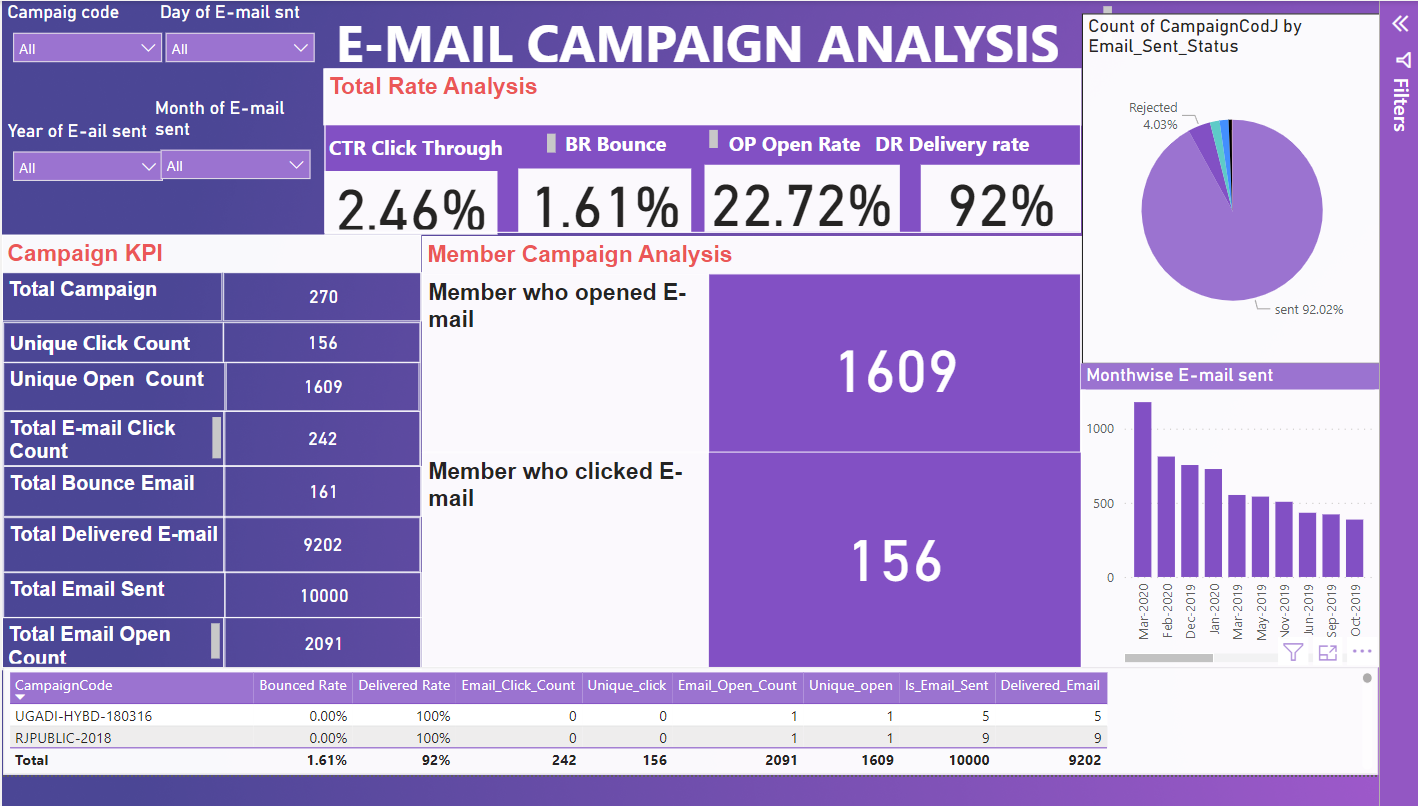

This screenshot's page, from the dashboard's own definition file:
{"tool":"powerbi","page":{"name":"Page 1","canvas":[1280,720],"ordinal":0},"visuals":[{"type":"textbox","box":[263.3,0,773.3,61.7],"z":0},{"type":"slicer","title":"Campaig code","fields":{"Values":["TBL_Communication.CampaignCodJ"]},"box":[0,0,158.6,89.7],"z":1000},{"type":"slicer","title":"Year of E-ail sent","fields":{"Values":["TBL_Communication.Email_SentDate.Variation.Date Hierarchy.Year"]},"box":[0,110.2,159.3,74.6],"z":2000},{"type":"slicer","title":"Month of E-mail sent","fields":{"Values":["TBL_Communication.Email_SentDate.Variation.Date Hierarchy.Month"]},"box":[137.3,89.8,159.3,81.4],"z":3000},{"type":"slicer","title":"Day of E-mail snt","fields":{"Values":["TBL_Communication.Email_SentDate.Variation.Date Hierarchy.Day"]},"box":[141.4,0,158.6,89.7],"z":4000},{"type":"shape","box":[300,62.7,703.4,152.5],"z":5000},{"type":"textbox","box":[298.3,62.7,705.1,52.5],"z":6000},{"type":"textbox","box":[298.3,119,220.7,39.7],"z":7000},{"type":"textbox","box":[518.6,115.3,152.5,37.3],"z":8000},{"type":"textbox","box":[670.7,115.5,182.8,43.1],"z":9000},{"type":"textbox","box":[806.9,115.5,177.6,41.4],"z":10000},{"type":"textbox","box":[0,216.9,389.8,405.1],"z":11000},{"type":"textbox","box":[0,216.9,389.8,35.6],"z":12000},{"type":"textbox","box":[0,252.5,205.1,45.8],"z":13000},{"type":"textbox","box":[1.7,298.3,205.1,37.3],"z":14000},{"type":"textbox","box":[1.7,335.6,206.8,45.8],"z":15000},{"type":"textbox","box":[1.7,381.4,206.8,50.8],"z":16000},{"type":"textbox","box":[1.7,432.2,206.8,47.5],"z":17000},{"type":"textbox","box":[1.7,479.7,206.8,50.8],"z":18000},{"type":"card","fields":{"Values":["Count(TBL_Communication.CampaignCodJ)"]},"box":[205.1,252.5,184.7,45.8],"z":19000},{"type":"textbox","box":[1.7,530.5,206.8,42.4],"z":20000},{"type":"card","fields":{"Values":["Sum(TBL_Communication.Unique_click)"]},"box":[205.1,298.3,183.1,37.3],"z":21000},{"type":"card","fields":{"Values":["Sum(TBL_Communication.Unique_open)"]},"box":[208.5,335.6,179.7,45.8],"z":22000},{"type":"card","fields":{"Values":["Sum(TBL_Communication.Email_Click_Count)"]},"box":[205.1,381.4,183.1,50.8],"z":23000},{"type":"card","fields":{"Values":["Sum(TBL_Communication.Bounced_Email)"]},"box":[205.1,432.2,184.7,47.5],"z":24000},{"type":"card","fields":{"Values":["Sum(TBL_Communication.Delivered_Email)"]},"box":[205.1,479.7,183.1,50.8],"z":25000},{"type":"card","fields":{"Values":["Sum(TBL_Communication.Is_Email_Sent)"]},"box":[206.8,530.5,183.1,42.4],"z":26000},{"type":"textbox","box":[0,572.9,206.8,47.5],"z":27000},{"type":"card","fields":{"Values":["Sum(TBL_Communication.Email_Open_Count)"]},"box":[206.8,572.9,183.1,49.2],"z":28000},{"type":"card","fields":{"Values":["TBL_Communication.CTR"]},"box":[300,157.6,161,59.3],"z":29000},{"type":"card","fields":{"Values":["TBL_Communication.BR"]},"box":[479.7,155.9,161,59.3],"z":30000},{"type":"card","fields":{"Values":["TBL_Communication.OR"]},"box":[652.5,152.5,181.4,62.7],"z":31000},{"type":"card","fields":{"Values":["TBL_Communication.DR"]},"box":[854.2,152.5,149.2,62.7],"z":32000},{"type":"shape","box":[390,218.3,613.3,401.7],"z":33000},{"type":"textbox","box":[390,218.3,613.3,35],"z":34000},{"type":"textbox","box":[390,253.3,266.7,166.7],"z":35000},{"type":"textbox","box":[390,420,266.7,200],"z":36000},{"type":"card","fields":{"Values":["CountNonNull(TBL_Communication.Member Open)"]},"box":[656.7,253.3,346.7,166.7],"z":37000},{"type":"card","fields":{"Values":["CountNonNull(TBL_Communication.Member Clicked)"]},"box":[656.7,406.7,346.7,213.3],"z":38000},{"type":"pieChart","fields":{"Category":["TBL_Communication.Email_Sent_Status"],"Y":["CountNonNull(TBL_Communication.CampaignCodJ)"]},"box":[1003.4,12.1,277.6,325.9],"z":39000},{"type":"clusteredColumnChart","title":"Monthwise E-mail sent","fields":{"Category":["TBL_Communication.Month_year"],"Y":["Sum(TBL_Communication.Is_Email_Sent)"]},"box":[1003.2,337.1,277.4,282.3],"z":40000},{"type":"tableEx","fields":{"Values":["TBL_Communication.CampaignCodJ","TBL_Communication.BR","TBL_Communication.DR","Sum(TBL_Communication.Email_Click_Count)","Sum(TBL_Communication.Unique_click)","Sum(TBL_Communication.Email_Open_Count)","Sum(TBL_Communication.Unique_open)","Sum(TBL_Communication.Is_Email_Sent)","Sum(TBL_Communication.Delivered_Email)"]},"box":[1.7,619,1277.6,100],"z":41000}]}

Visuals, with their boxes in screenshot pixels (x1, y1, x2, y2), scaled from the page's 1280x720 canvas onto the 1418x806 screenshot:
textbox: [x1=292, y1=0, x2=1148, y2=69]
"Campaig code" slicer: [x1=0, y1=0, x2=176, y2=100]
"Year of E-ail sent" slicer: [x1=0, y1=123, x2=176, y2=207]
"Month of E-mail sent" slicer: [x1=152, y1=101, x2=329, y2=192]
"Day of E-mail snt" slicer: [x1=157, y1=0, x2=332, y2=100]
shape: [x1=332, y1=70, x2=1112, y2=241]
textbox: [x1=330, y1=70, x2=1112, y2=129]
textbox: [x1=330, y1=133, x2=575, y2=178]
textbox: [x1=575, y1=129, x2=743, y2=171]
textbox: [x1=743, y1=129, x2=946, y2=178]
textbox: [x1=894, y1=129, x2=1091, y2=176]
textbox: [x1=0, y1=243, x2=432, y2=696]
textbox: [x1=0, y1=243, x2=432, y2=283]
textbox: [x1=0, y1=283, x2=227, y2=334]
textbox: [x1=2, y1=334, x2=229, y2=376]
textbox: [x1=2, y1=376, x2=231, y2=427]
textbox: [x1=2, y1=427, x2=231, y2=484]
textbox: [x1=2, y1=484, x2=231, y2=537]
textbox: [x1=2, y1=537, x2=231, y2=594]
card - Count(TBL_Communication.CampaignCodJ): [x1=227, y1=283, x2=432, y2=334]
textbox: [x1=2, y1=594, x2=231, y2=641]
card - Sum(TBL_Communication.Unique_click): [x1=227, y1=334, x2=430, y2=376]
card - Sum(TBL_Communication.Unique_open): [x1=231, y1=376, x2=430, y2=427]
card - Sum(TBL_Communication.Email_Click_Count): [x1=227, y1=427, x2=430, y2=484]
card - Sum(TBL_Communication.Bounced_Email): [x1=227, y1=484, x2=432, y2=537]
card - Sum(TBL_Communication.Delivered_Email): [x1=227, y1=537, x2=430, y2=594]
card - Sum(TBL_Communication.Is_Email_Sent): [x1=229, y1=594, x2=432, y2=641]
textbox: [x1=0, y1=641, x2=229, y2=695]
card - Sum(TBL_Communication.Email_Open_Count): [x1=229, y1=641, x2=432, y2=696]
card - TBL_Communication.CTR: [x1=332, y1=176, x2=511, y2=243]
card - TBL_Communication.BR: [x1=531, y1=175, x2=710, y2=241]
card - TBL_Communication.OR: [x1=723, y1=171, x2=924, y2=241]
card - TBL_Communication.DR: [x1=946, y1=171, x2=1112, y2=241]
shape: [x1=432, y1=244, x2=1111, y2=694]
textbox: [x1=432, y1=244, x2=1111, y2=284]
textbox: [x1=432, y1=284, x2=728, y2=470]
textbox: [x1=432, y1=470, x2=728, y2=694]
card - CountNonNull(TBL_Communication.Member Open): [x1=728, y1=284, x2=1112, y2=470]
card - CountNonNull(TBL_Communication.Member Clicked): [x1=728, y1=455, x2=1112, y2=694]
pieChart - TBL_Communication.Email_Sent_Status x CountNonNull(TBL_Communication.CampaignCodJ): [x1=1112, y1=14, x2=1417, y2=378]
"Monthwise E-mail sent" clusteredColumnChart: [x1=1111, y1=377, x2=1417, y2=693]
tableEx - TBL_Communication.CampaignCodJ x TBL_Communication.BR: [x1=2, y1=693, x2=1417, y2=805]
